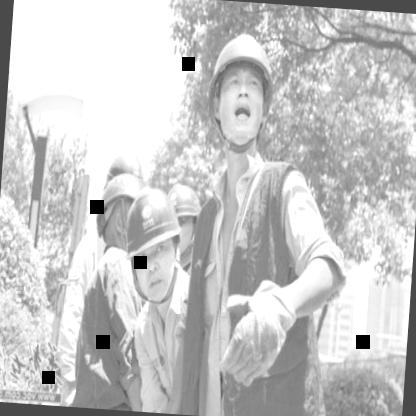helmet: (198, 17, 286, 162), (129, 184, 183, 290), (92, 171, 142, 254), (167, 183, 200, 251)
